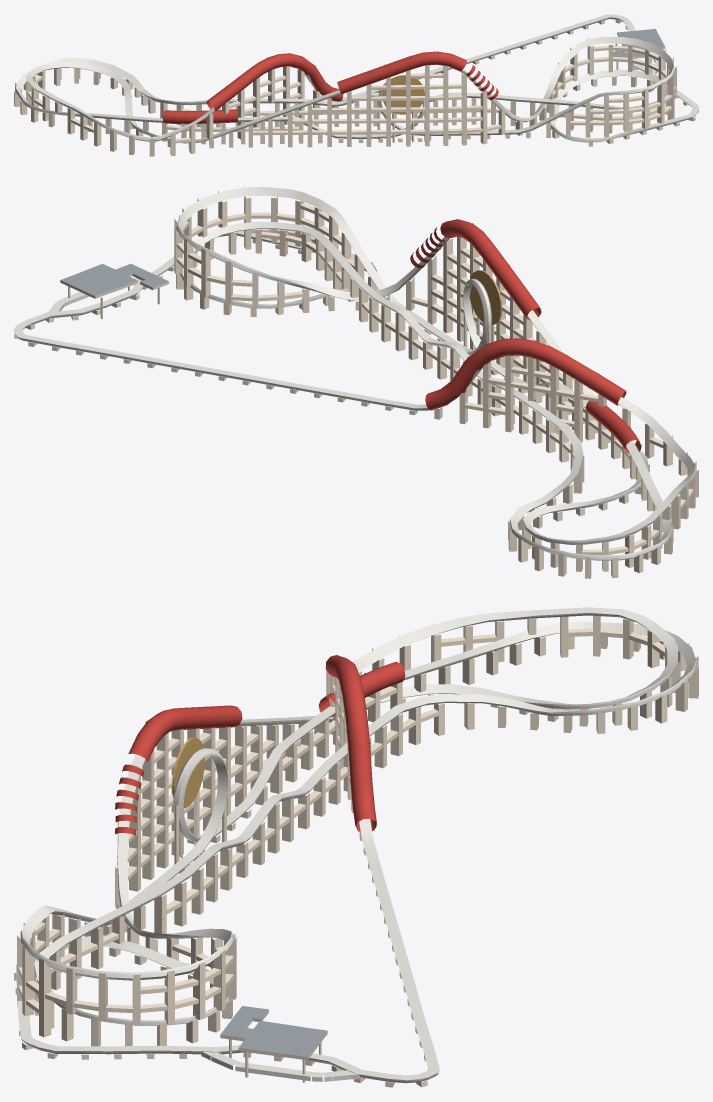
The model's file is dlr-incredicoaster.glb.
The picture shows the model from 3 angles, top to bottom: view 1: azimuth 30°, elevation 25°; view 2: azimuth 150°, elevation 25°; view 3: azimuth 270°, elevation 25°; orthographic projection. The views are drawn at different scales.
Visible parts, largest first — view 1: Incredicoaster; view 2: Incredicoaster; view 3: Incredicoaster.
Part boxes in pixels (x1=…): Incredicoaster: x1=14, y1=14, x2=698, y2=156; Incredicoaster: x1=14, y1=186, x2=698, y2=578; Incredicoaster: x1=14, y1=607, x2=698, y2=1087.
Size of the model in its own units: 257 by 41.56 by 168.
